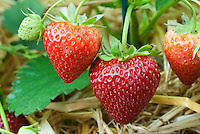ripe: (92, 49, 161, 124), (43, 20, 102, 83), (162, 22, 198, 87)
unripe: (16, 14, 42, 40)
